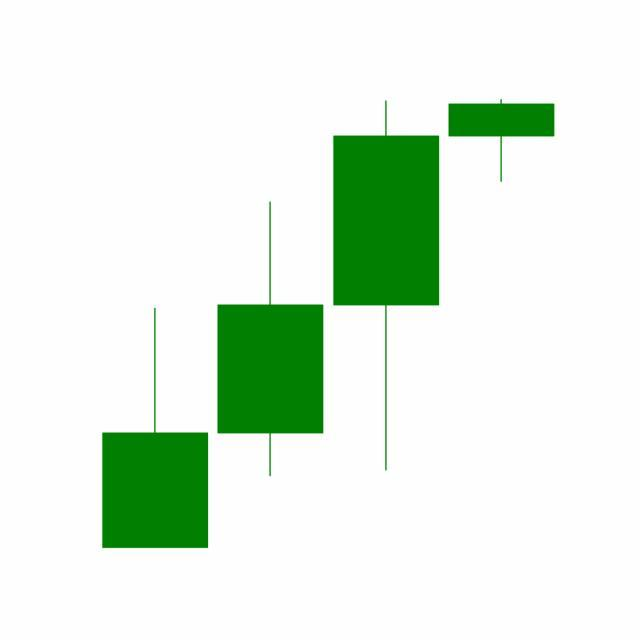Hanging Man: (444, 99, 560, 184)
